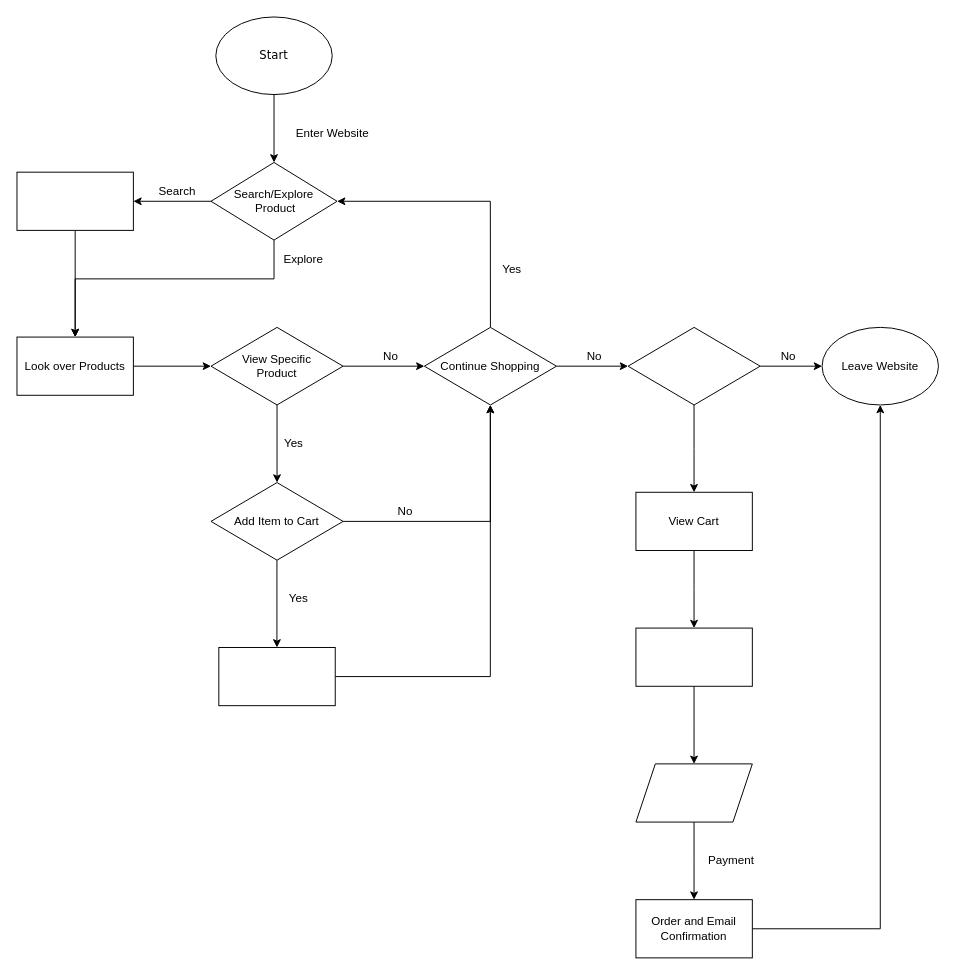
Some shapes in this 955 by 975 pixel diagram are drawn without their labels. The centre of each missing label's shape, as x and y in pixels:
"Add to Cart Confirmation" goes at (x=276, y=676).
"Checkout" goes at (x=693, y=365).
"Input Payment Information" goes at (x=693, y=792).
"Input search" goes at (x=74, y=200).
"View Payment" goes at (x=693, y=656).
